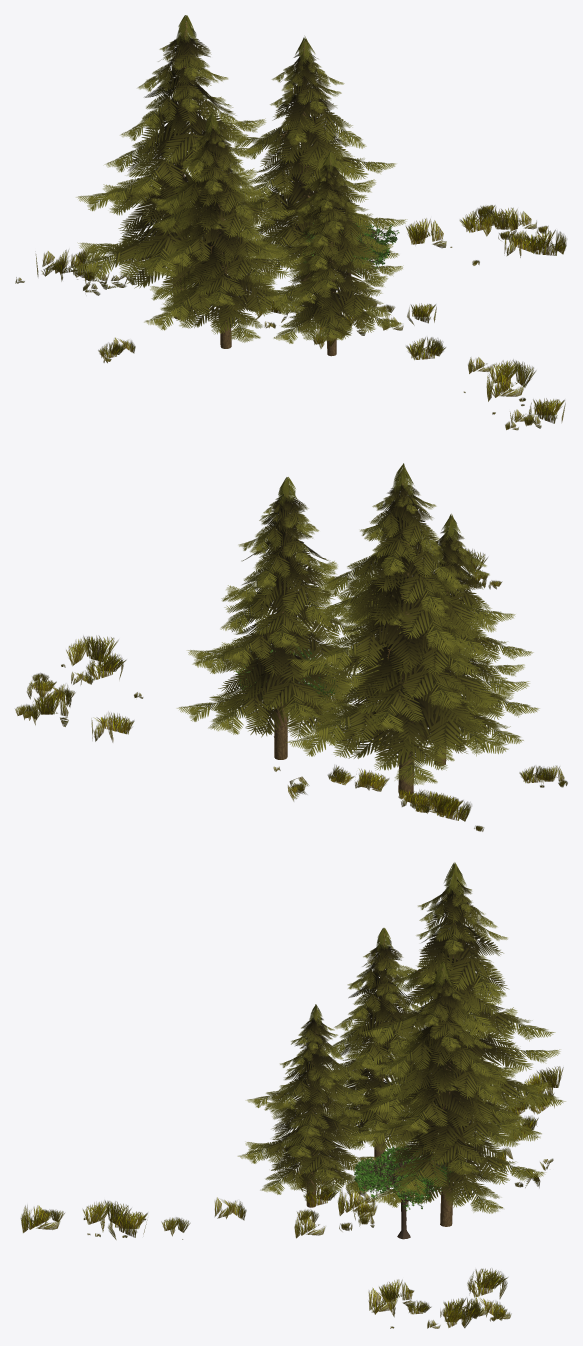
The picture shows the model from 3 angles, top to bottom: view 1: azimuth 30°, elevation 25°; view 2: azimuth 150°, elevation 25°; view 3: azimuth 270°, elevation 25°; orthographic projection. The views are drawn at different scales.
Visible parts, largest first — view 1: Low Poly Stylized 2D Grass.1077; view 2: Low Poly Stylized 2D Grass.1077; view 3: Low Poly Stylized 2D Grass.1077.
Boxes of the visible parts, left/top/right/bottom form: Low Poly Stylized 2D Grass.1077: left=15, top=15, right=566, bottom=430; Low Poly Stylized 2D Grass.1077: left=15, top=463, right=567, bottom=831; Low Poly Stylized 2D Grass.1077: left=20, top=862, right=565, bottom=1328.
Bounding box in the file's own units: 23.31 × 14.48 × 23.4.
5 materials, 4 textured.
